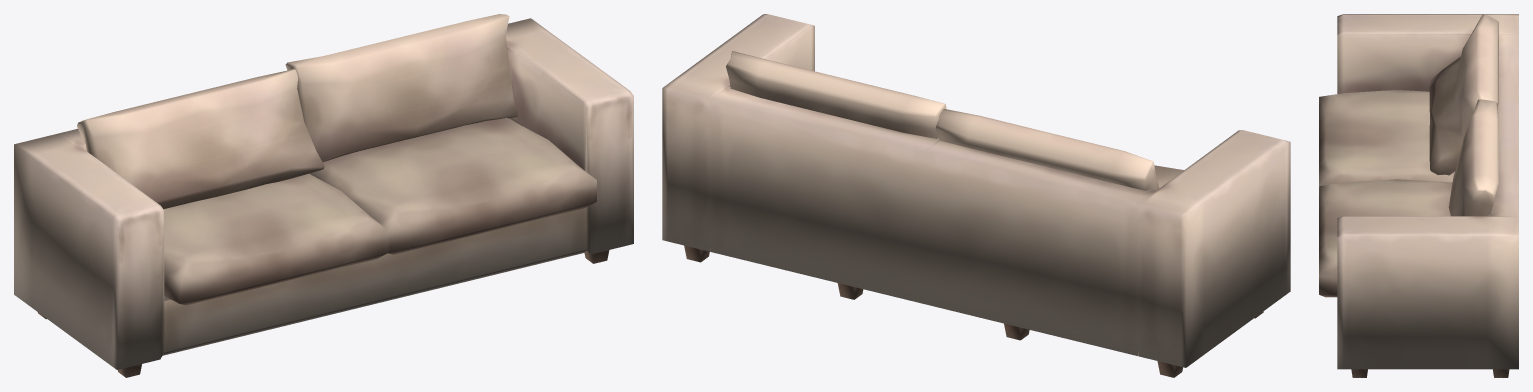
The model's file is Couch_1.fbx.
The picture shows the model from 3 angles, left to right: view 1: azimuth 30°, elevation 25°; view 2: azimuth 150°, elevation 25°; view 3: azimuth 270°, elevation 25°; orthographic projection. The views are drawn at different scales.
Parts seen in each view (by area): view 1: Cube; view 2: Cube; view 3: Cube.
Boxes of the visible parts, box(x1,y1,x2,y2) form: Cube: box(14, 14, 633, 377); Cube: box(662, 14, 1290, 377); Cube: box(1319, 14, 1518, 377).
Bounding box in the file's own units: 438 × 162 × 166.
